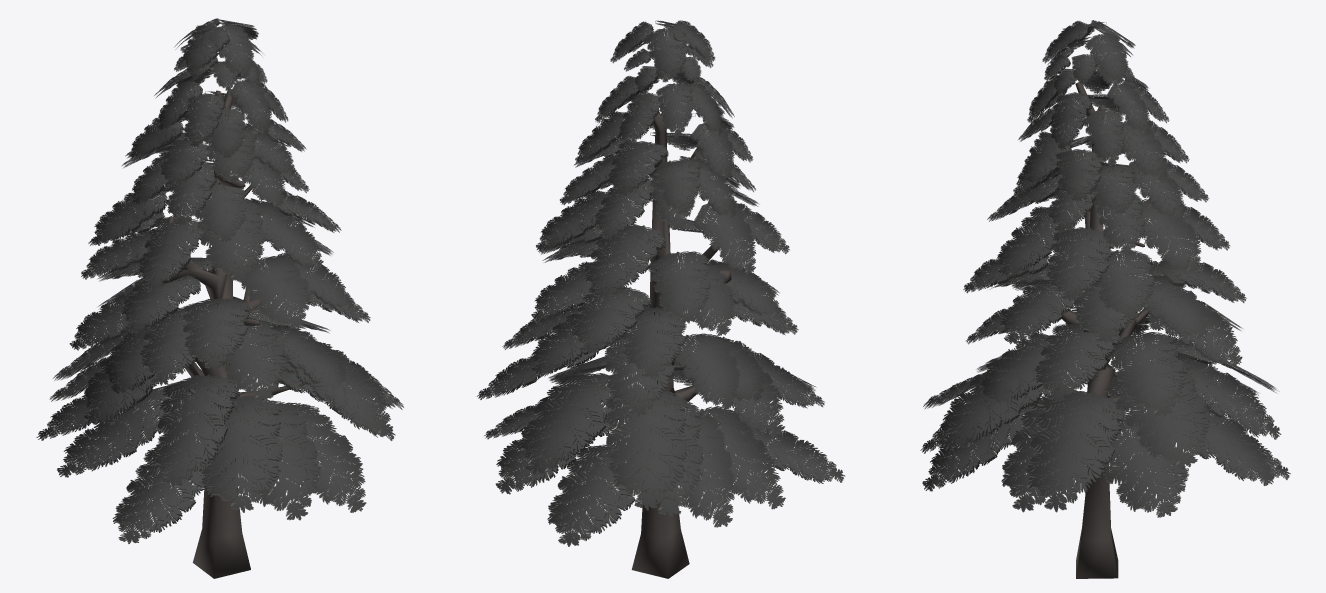
File: tree_1.glb
3 renders of one model, left to right at view 1: azimuth 30°, elevation 25°; view 2: azimuth 150°, elevation 25°; view 3: azimuth 270°, elevation 25°, orthographic.
Parts seen in each view (by area): view 1: pine_leaves, root.001; view 2: pine_leaves, root.001; view 3: pine_leaves, root.001.
Boxes of the visible parts, x1,y1,x2,y2 form: pine_leaves: (36,18,403,543); root.001: (128,89,308,578); pine_leaves: (476,20,845,546); root.001: (583,81,731,578); pine_leaves: (920,20,1290,517); root.001: (1026,81,1152,578).
Size of the model in its own units: 6.83 by 10.06 by 7.04.
Materials: 2 (1 with a texture image).
